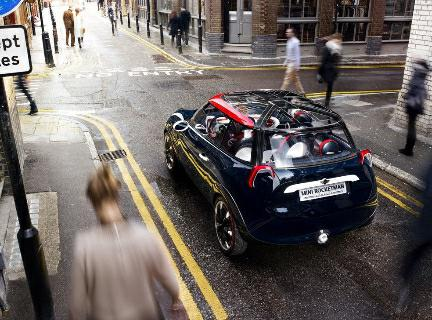MINI-ROCKETMAN: (161, 86, 384, 256)
